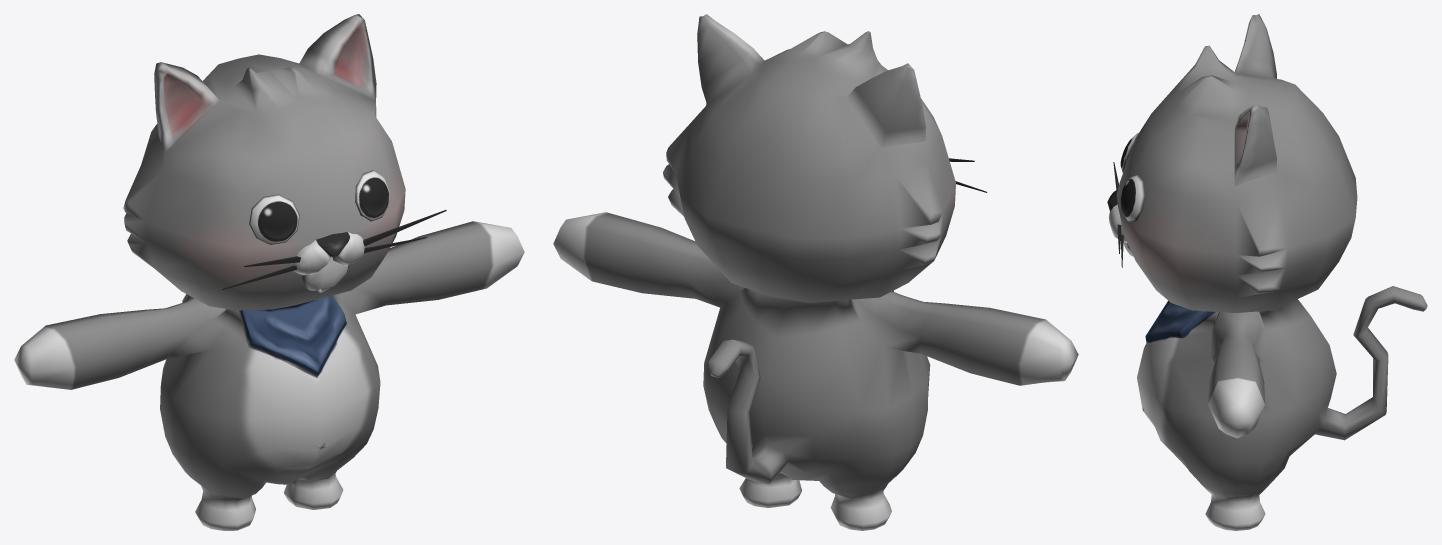
Rendered from cat.glb.
3 views of the same model, side by side, from view 1: azimuth 30°, elevation 25°; view 2: azimuth 150°, elevation 25°; view 3: azimuth 270°, elevation 25° (orthographic). The views are drawn at different scales.
Parts seen in each view (by area): view 1: pCube8, pSphere3, pCube7, pSphere2, pCube14, pCube9; view 2: pCube8; view 3: pCube8, pSphere2, pCube7.
Part boxes in pixels (left/top/right/bottom): pCube8: left=14, top=14, right=524, bottom=530; pSphere3: left=249, top=194, right=299, bottom=244; pCube7: left=293, top=232, right=364, bottom=275; pSphere2: left=355, top=170, right=389, bottom=221; pCube14: left=222, top=210, right=446, bottom=289; pCube9: left=302, top=256, right=349, bottom=292; pCube8: left=553, top=14, right=1078, bottom=530; pCube8: left=1116, top=14, right=1427, bottom=530; pSphere2: left=1120, top=175, right=1145, bottom=222; pCube7: left=1107, top=189, right=1127, bottom=242.
Size of the model in its own units: 1.57 by 1.39 by 0.9143.
Materials: 1 (1 with a texture image).
